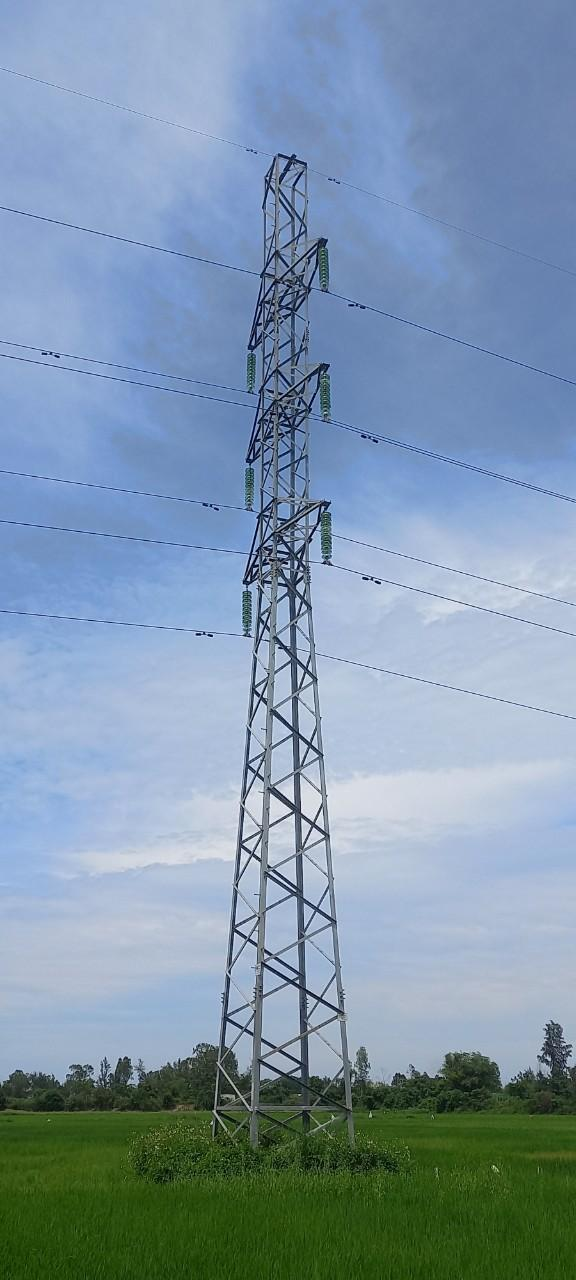power_tower: (216, 144, 364, 1152)
